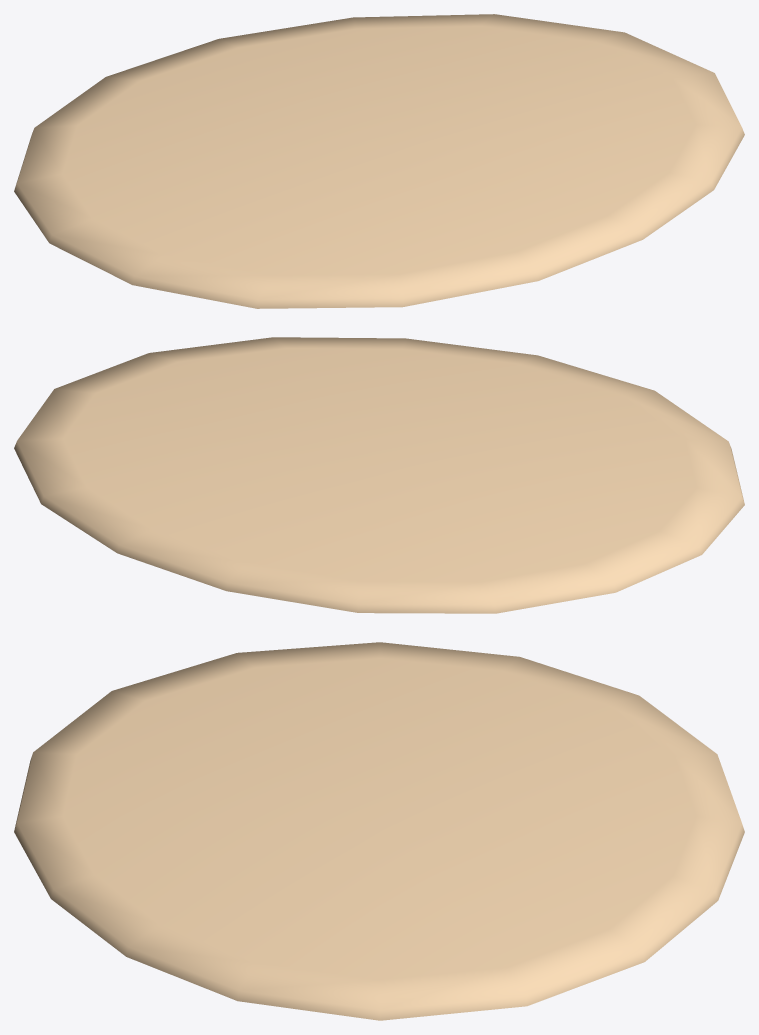
The model's file is empty_pad.glb.
The picture shows the model from 3 angles, top to bottom: view 1: azimuth 30°, elevation 25°; view 2: azimuth 150°, elevation 25°; view 3: azimuth 270°, elevation 25°; orthographic projection. The views are drawn at different scales.
Parts seen in each view (by area): view 1: empty_pad; view 2: empty_pad; view 3: empty_pad.
Part boxes in pixels (x1=…): empty_pad: x1=14, y1=14, x2=744, y2=308; empty_pad: x1=14, y1=337, x2=744, y2=613; empty_pad: x1=14, y1=642, x2=744, y2=1020.
Bounding box in the file's own units: 1.22 × 0.026 × 1.02.
